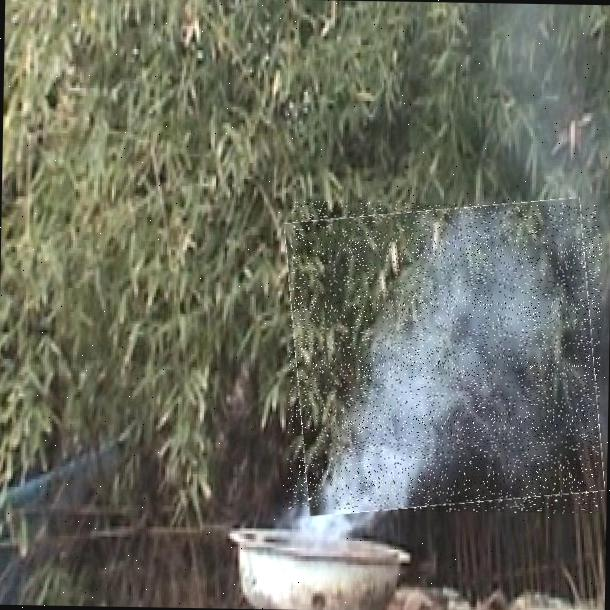smoke: (287, 201, 603, 514)
